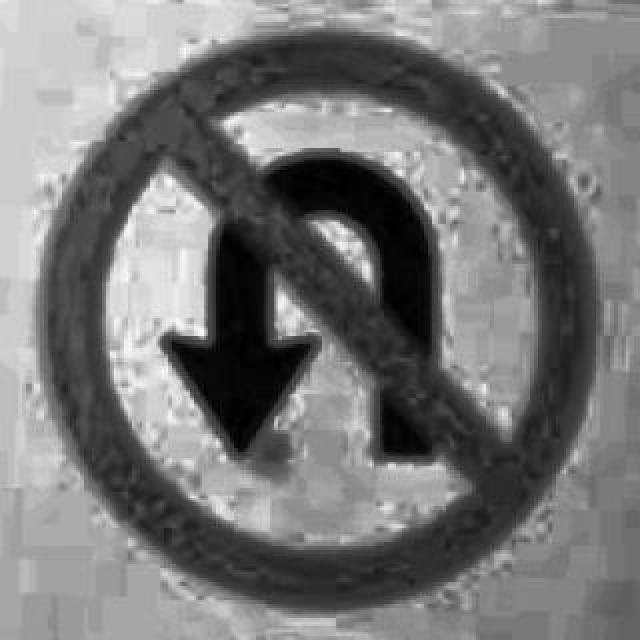no u turn: (26, 22, 600, 608)
